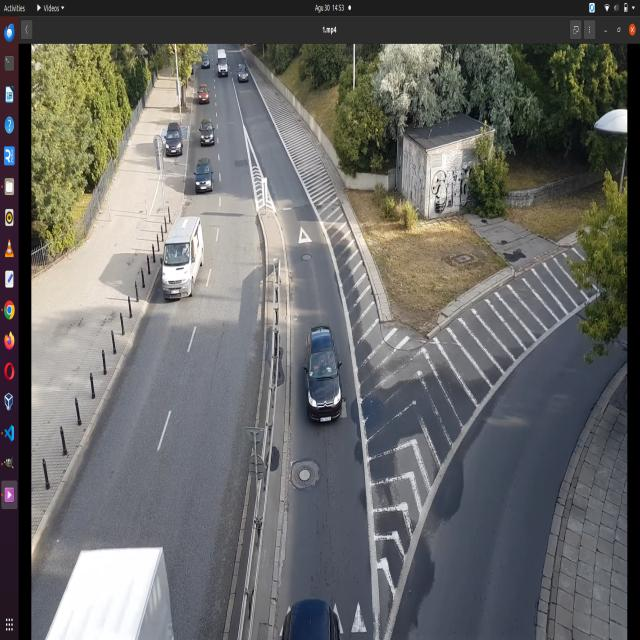person_with_seatbelt: (182, 242, 192, 262)
